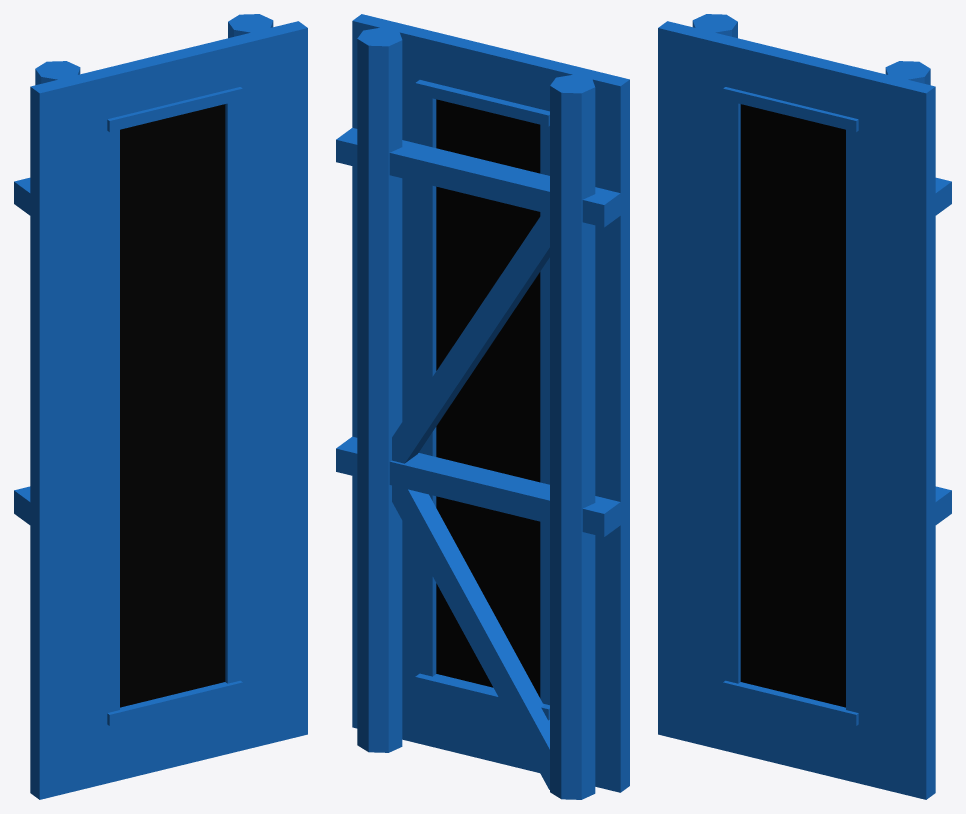
Rendered from SM_wall4.fbx.
The picture shows the model from 3 angles, left to right: view 1: azimuth 30°, elevation 25°; view 2: azimuth 150°, elevation 25°; view 3: azimuth 330°, elevation 25°; orthographic projection.
Visible parts, largest first — view 1: wall4; view 2: wall4; view 3: wall4.
Boxes of the visible parts, x1,y1,x2,y2 form: wall4: (14, 14, 307, 799); wall4: (336, 14, 629, 799); wall4: (658, 14, 951, 799).
Bounding box in the file's own units: 200 × 503 × 42.89.
